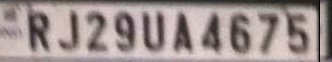character: (228, 13, 252, 54), (285, 11, 308, 53), (257, 12, 279, 55), (141, 10, 164, 51), (27, 12, 51, 51), (85, 11, 108, 51), (199, 14, 221, 54), (58, 8, 78, 51), (113, 12, 135, 51), (172, 11, 192, 52)
